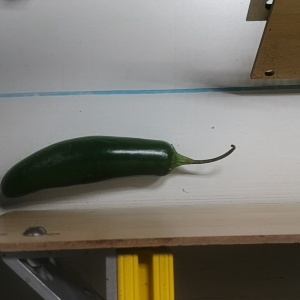Cut Point: (158, 139, 185, 176)
